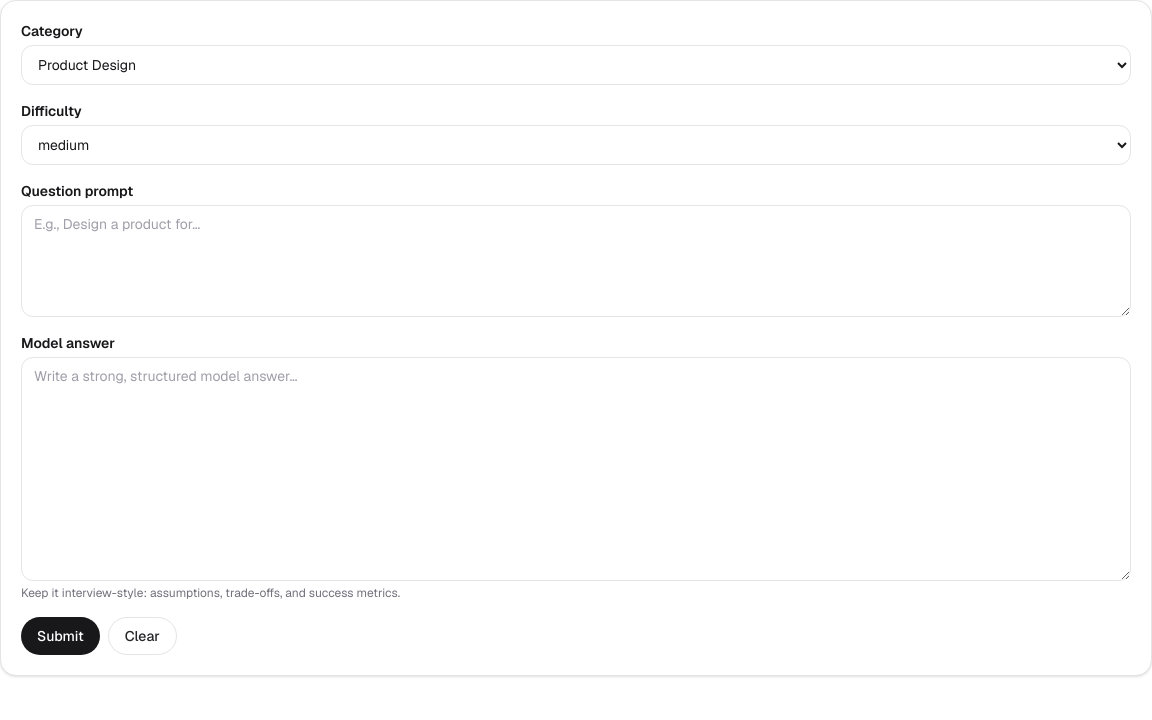
Test: SuggestForm › submits to /api/suggestions and shows success message
In the text box with placeholder "E.g., Design a product for…": {"x": 576, "y": 261} [21,205,1131,317], type "Design a better onboarding."
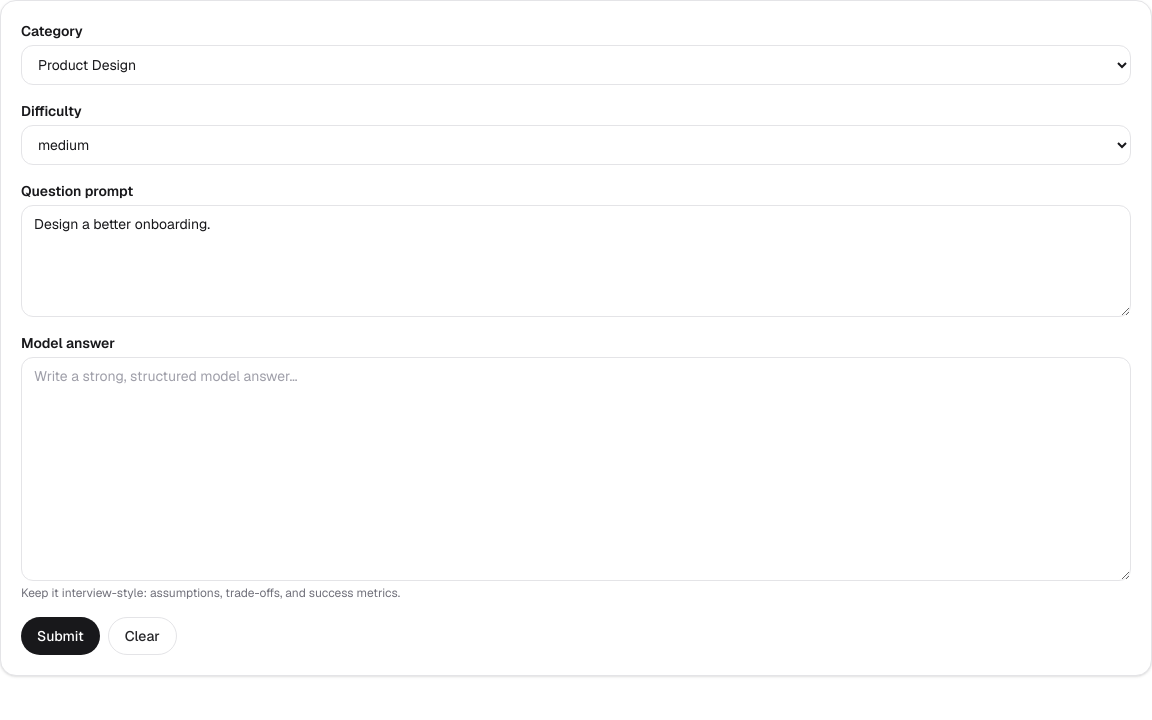
In the text box with placeholder "Write a strong, structured model answer…": {"x": 576, "y": 469} [21,357,1131,581], type "Great answer here."
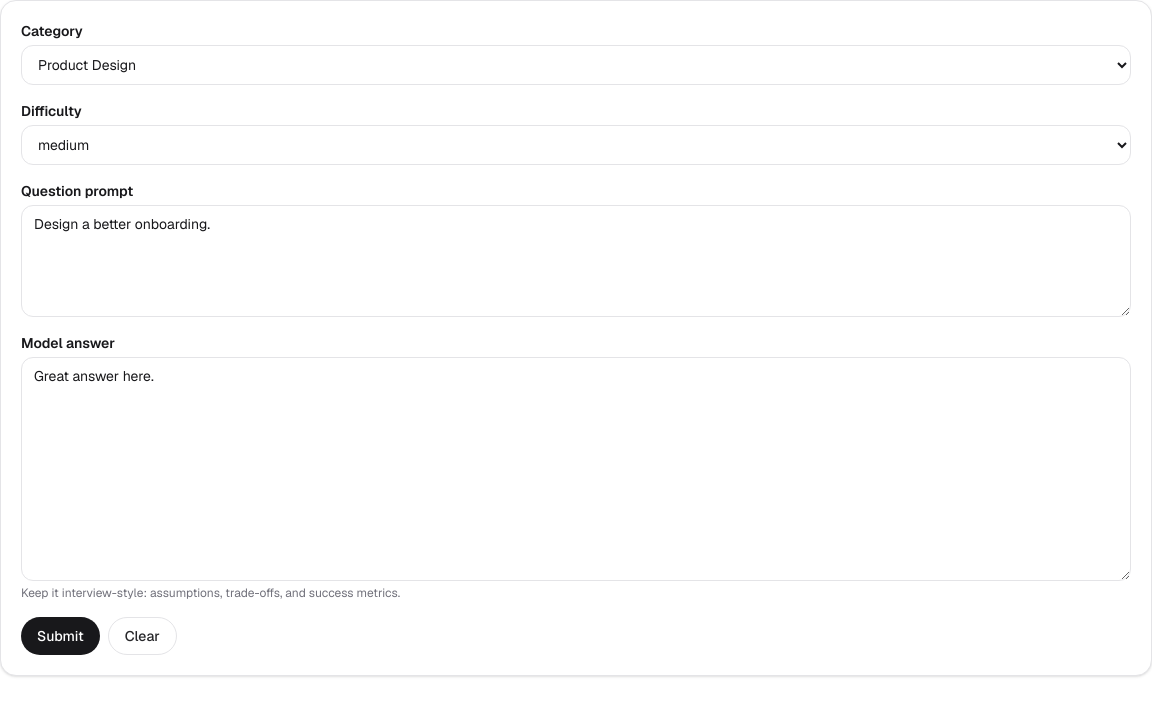
Click the button "Submit": {"x": 60, "y": 636} [21,617,100,655]
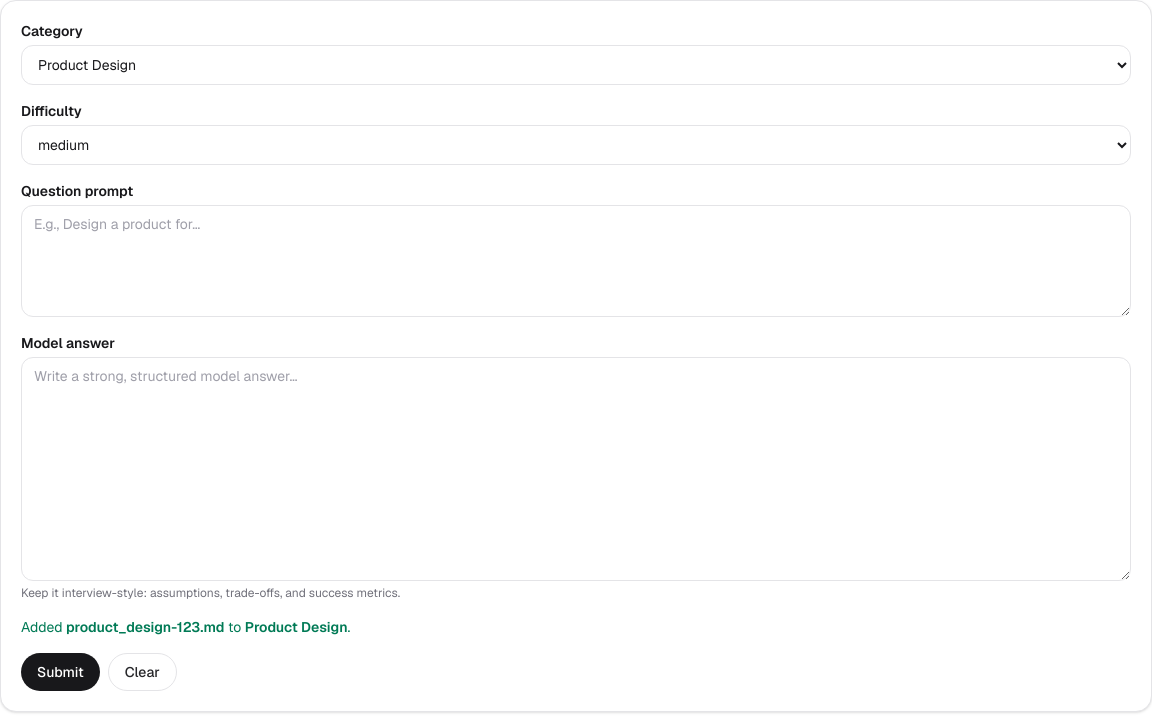
expect the text "Added product_design-123.md to Product Design." is shown: met, box [21,618,350,636]
expect the text "product_design-123.md" is shown: met, box [66,618,224,636]
